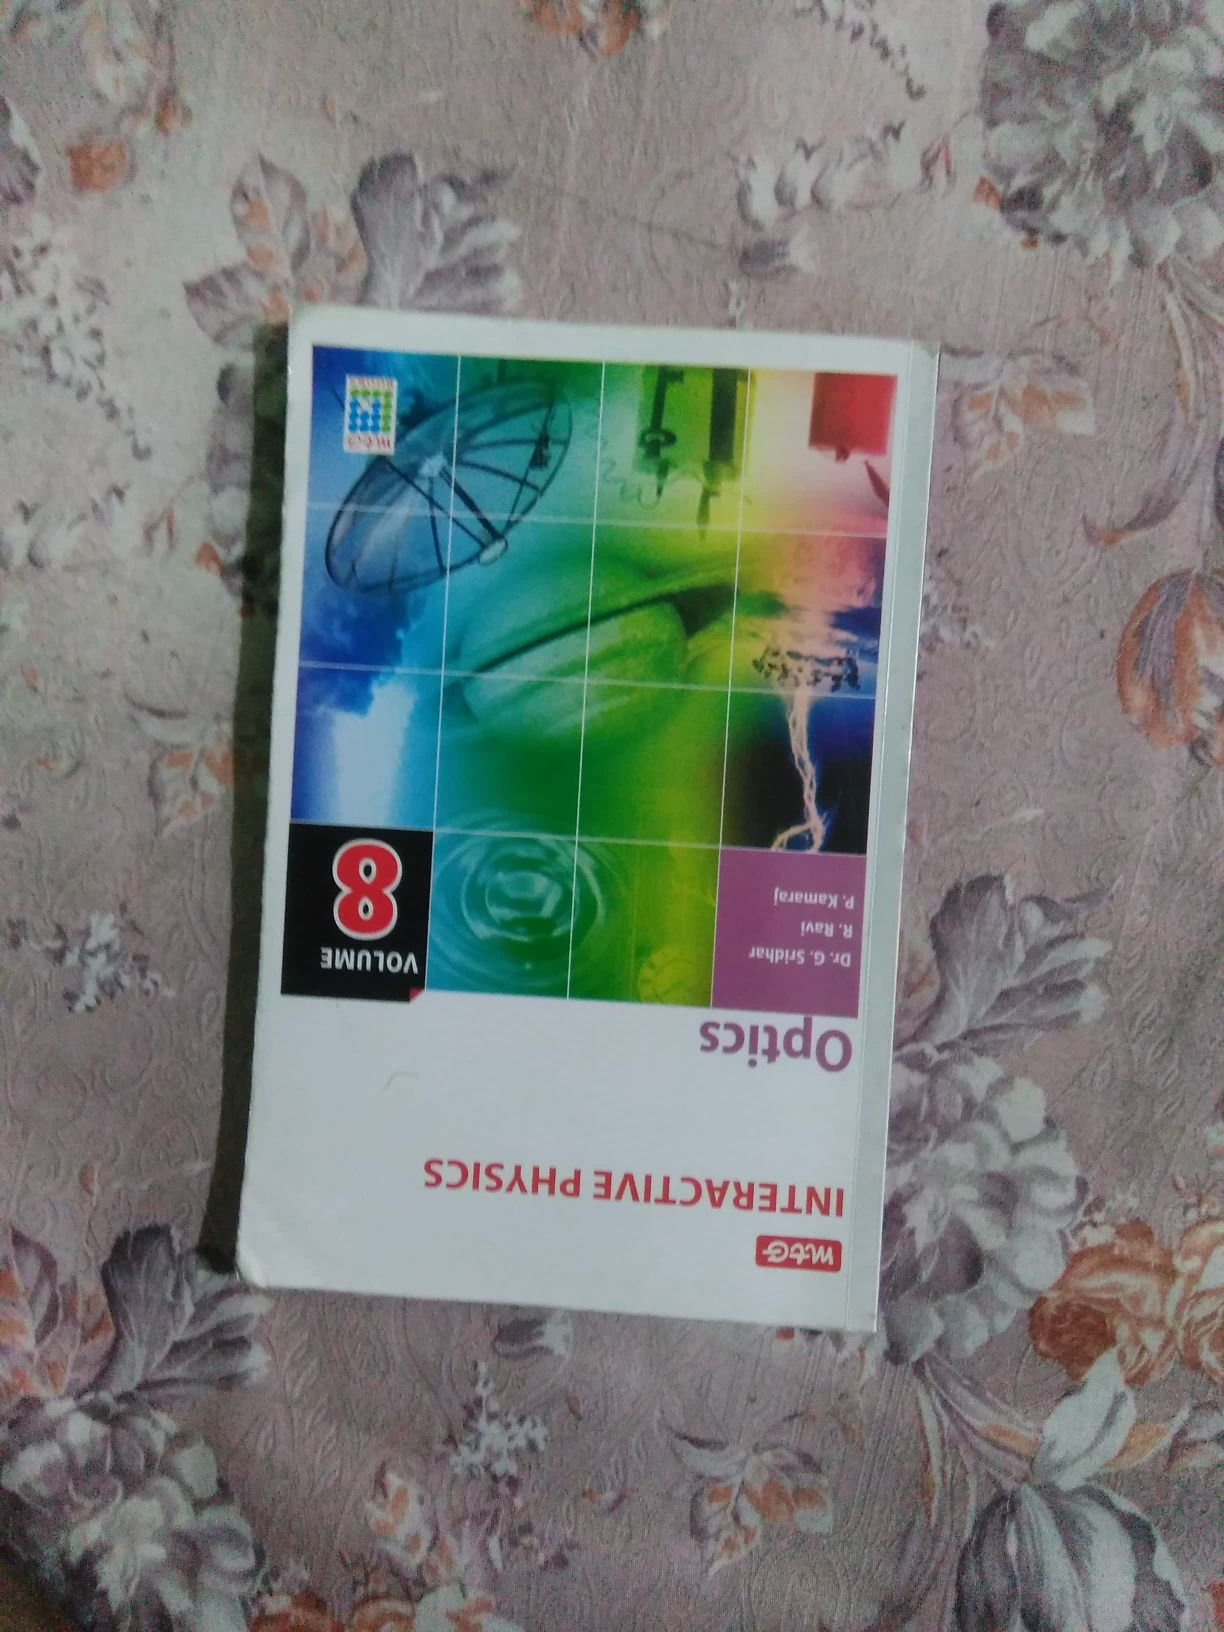optics: (237, 317, 968, 1361)
